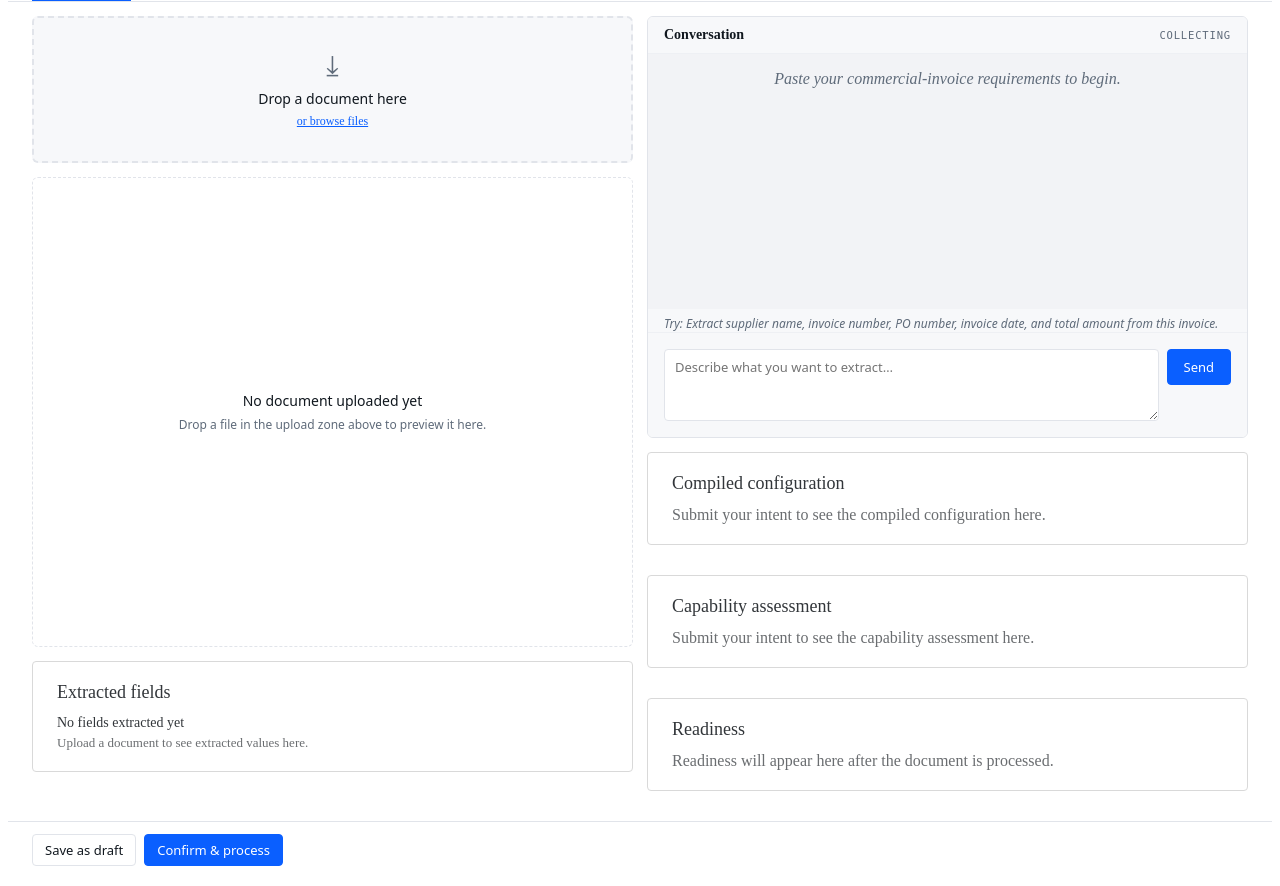
Test: F-11 CustomerRoute REBUILD — chrome + chat-first surface › HAPPY-10: Save-as-draft click surfaces a toast and mutates ZERO entity stores
(page scrolled)
Click the button with test id "customer-readiness-save-draft" at [84, 850], box [32,834,136,866]
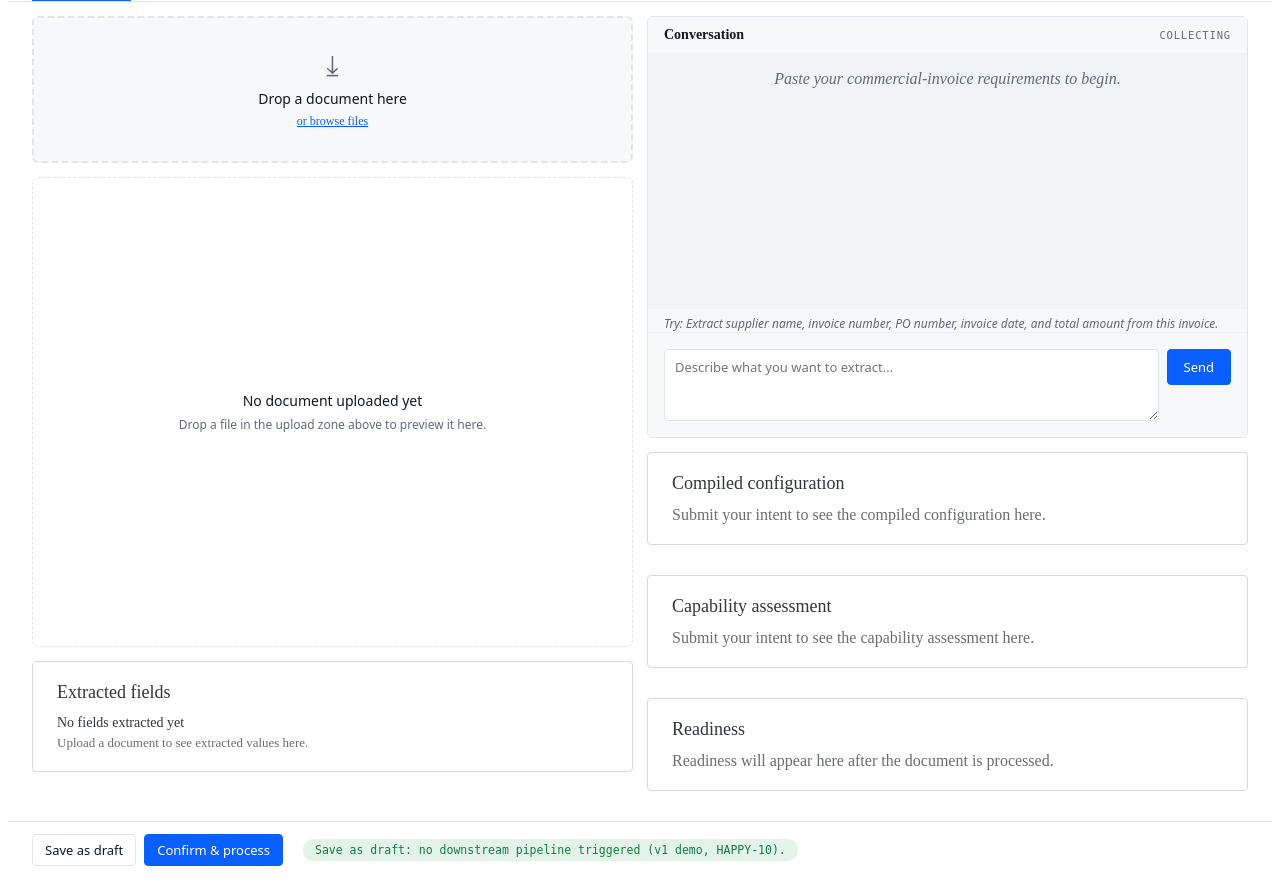
Expected: the message with test id "customer-readiness-toast" shows "Save as draft", [315,843,786,857]
